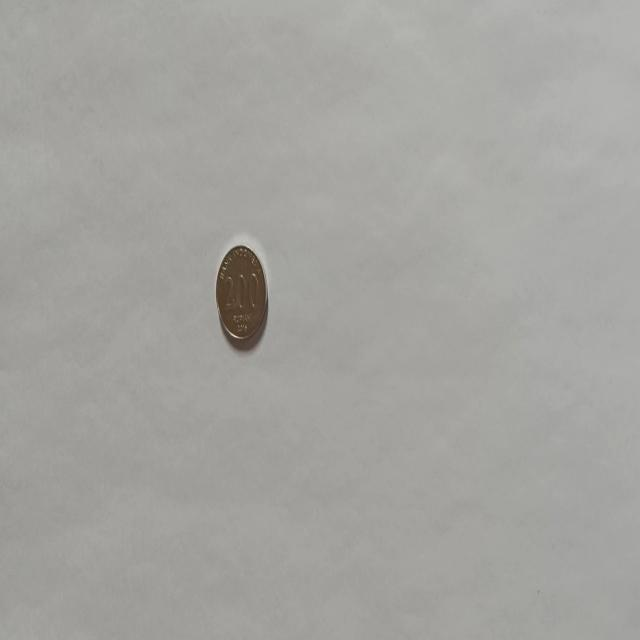dua ratus rupiah: (214, 242, 268, 344)
